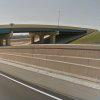Bridge: (2, 15, 89, 49)
